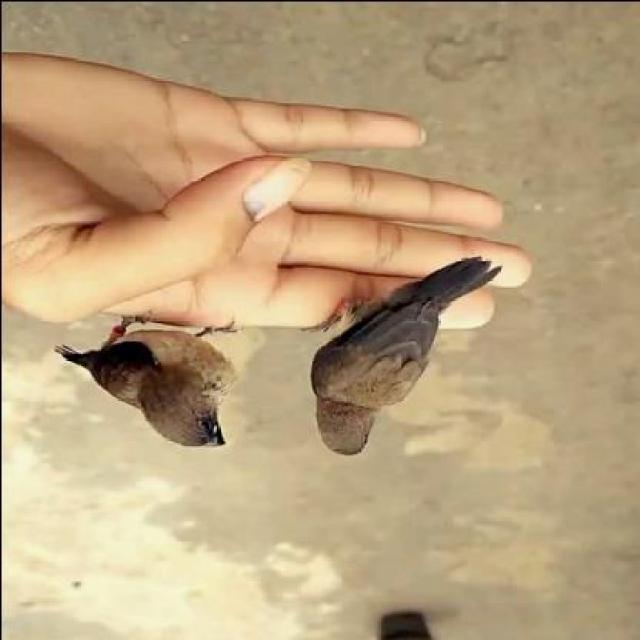Bird: (297, 253, 496, 462), (51, 306, 228, 453)
